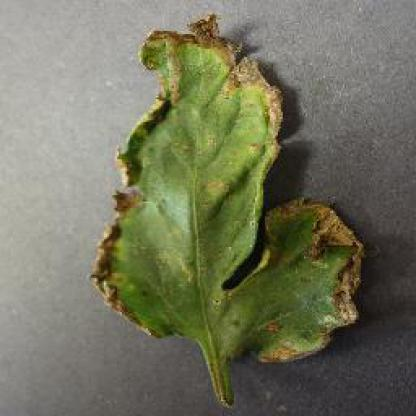bad leaf: (95, 12, 367, 405)
